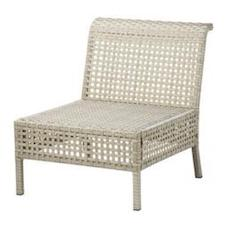chair: (4, 6, 222, 217)
